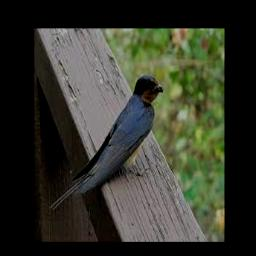Swallow: (49, 73, 163, 211)
